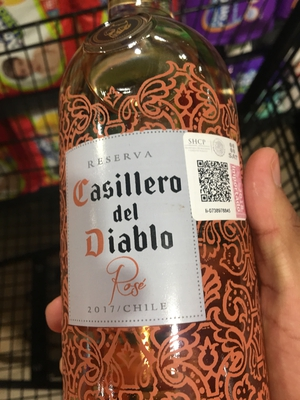casillero del diablo rose: (51, 19, 271, 396)
